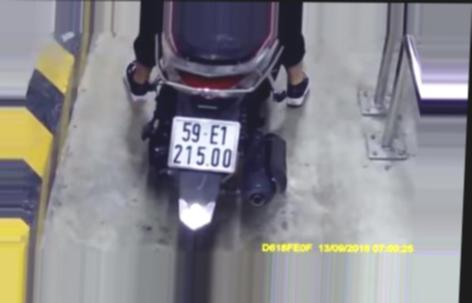License_Plate: (162, 112, 243, 176)
